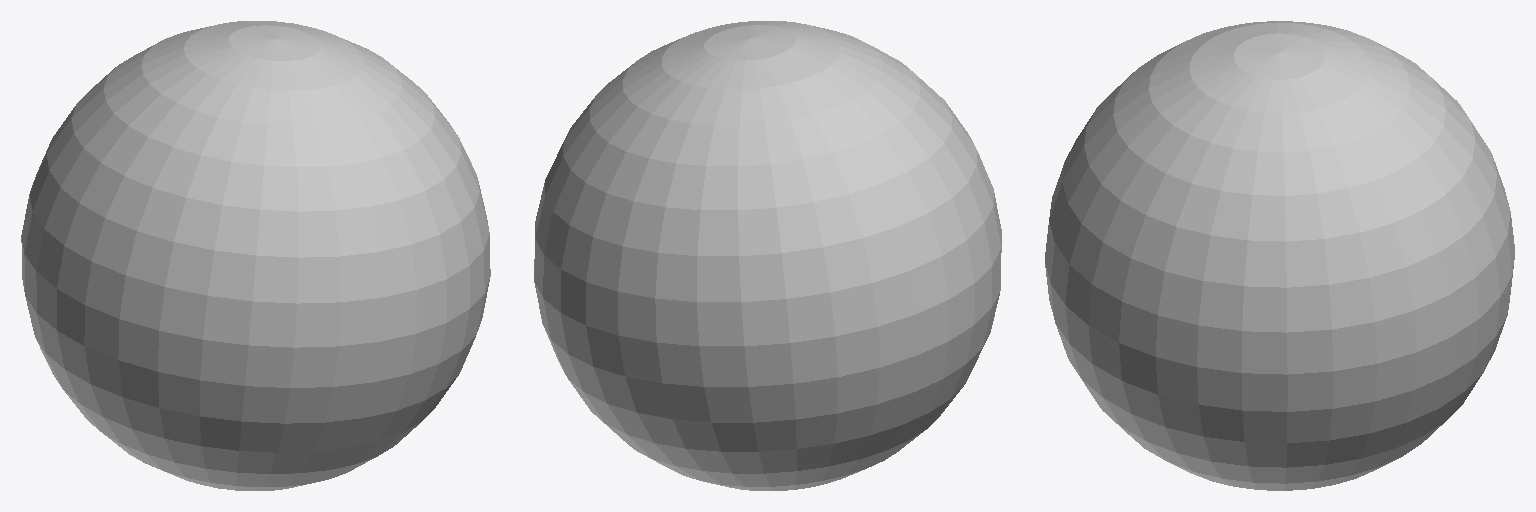
The model's file is kula.obj.
3 views of the same model, side by side, from view 1: azimuth 30°, elevation 25°; view 2: azimuth 150°, elevation 25°; view 3: azimuth 270°, elevation 25° (orthographic).
Parts seen in each view (by area): view 1: Sphere; view 2: Sphere; view 3: Sphere.
Part boxes in pixels (left/top/right/bottom): Sphere: left=21, top=21, right=490, bottom=490; Sphere: left=534, top=21, right=1001, bottom=490; Sphere: left=1045, top=21, right=1514, bottom=490.
Bounding box in the file's own units: 3.02 × 3.03 × 3.04.